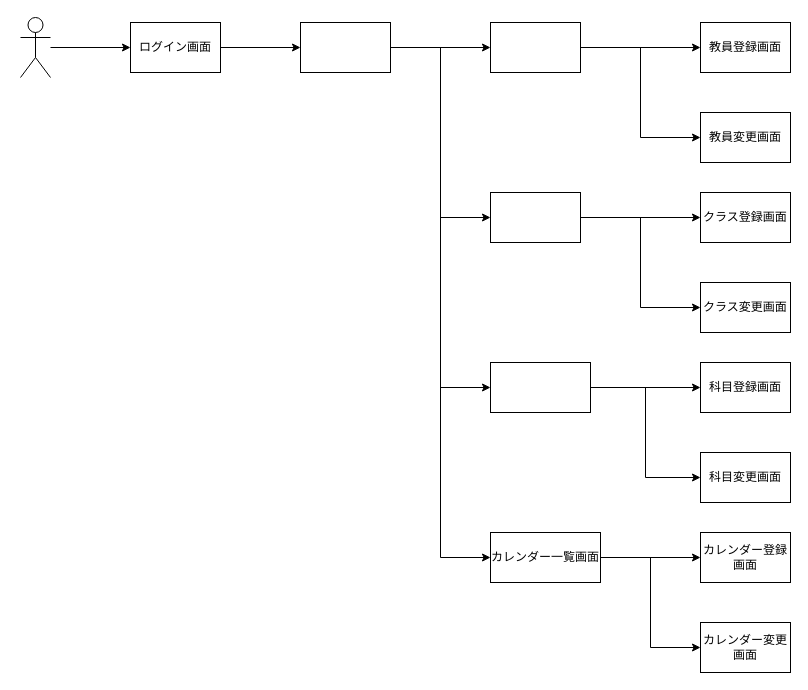
This 808x690 diagram has some shape labels left out. The centre of each missing label's shape, as x and y in pixels:
"クラス一覧画面" belongs at [535,217].
"教員一覧画面" belongs at [535,47].
"科目一覧画面" belongs at [540,387].
"管理者" belongs at [35,47].
"管理者画面" belongs at [345,47].
